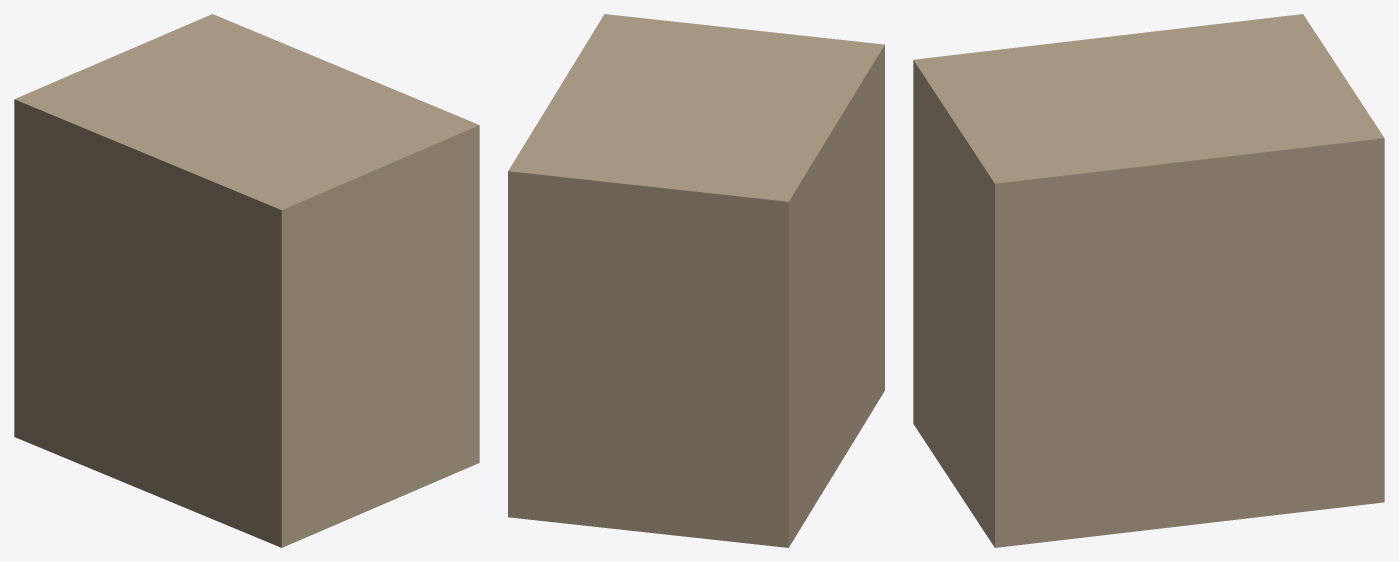
Rendered from bld_107625371.dae.
The picture shows the model from 3 angles, left to right: view 1: azimuth 30°, elevation 25°; view 2: azimuth 150°, elevation 25°; view 3: azimuth 270°, elevation 25°; orthographic projection. The views are drawn at different scales.
Parts seen in each view (by area): view 1: bld_107625371; view 2: bld_107625371; view 3: bld_107625371.
Part boxes in pixels (x1=…): bld_107625371: x1=14, y1=14, x2=479, y2=547; bld_107625371: x1=508, y1=14, x2=884, y2=547; bld_107625371: x1=913, y1=14, x2=1384, y2=547.
Size of the model in its own units: 8 by 9.38 by 8.
